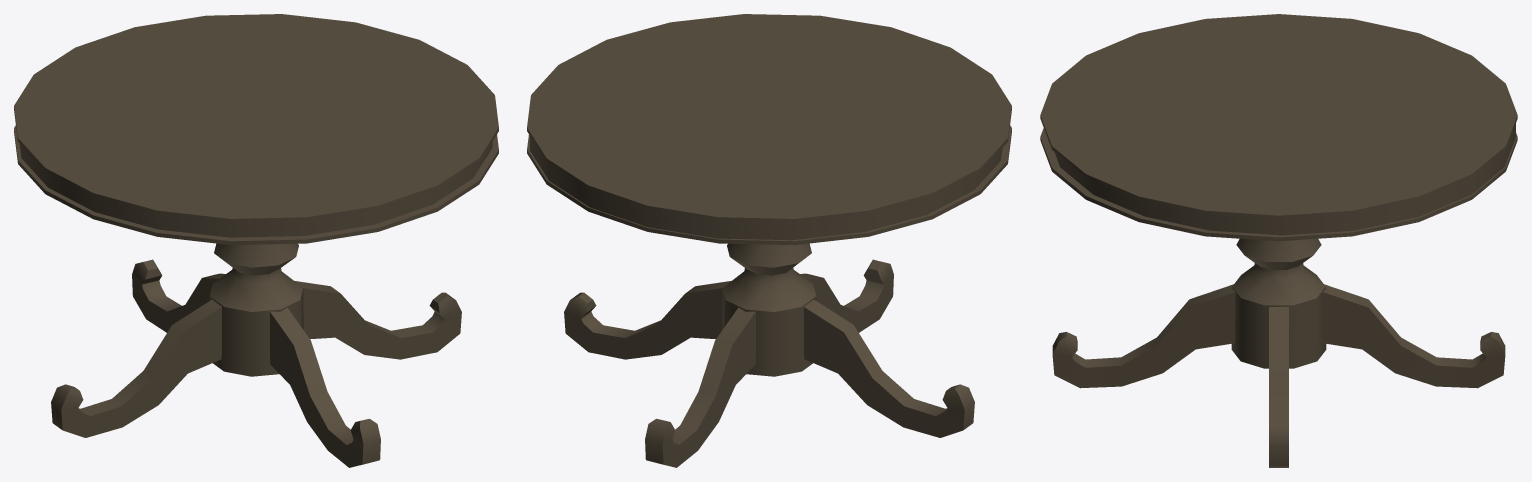
Rendered from Table Round Small.glb.
3 views of the same model, side by side, from view 1: azimuth 30°, elevation 25°; view 2: azimuth 150°, elevation 25°; view 3: azimuth 270°, elevation 25° (orthographic). The views are drawn at different scales.
Parts seen in each view (by area): view 1: Table_RoundSmall2; view 2: Table_RoundSmall2; view 3: Table_RoundSmall2.
Boxes of the visible parts, x1=… form: Table_RoundSmall2: x1=14, y1=14, x2=498, y2=467; Table_RoundSmall2: x1=527, y1=14, x2=1011, y2=467; Table_RoundSmall2: x1=1040, y1=14, x2=1517, y2=467.
Size of the model in its own units: 1.94 by 1.21 by 1.94.
